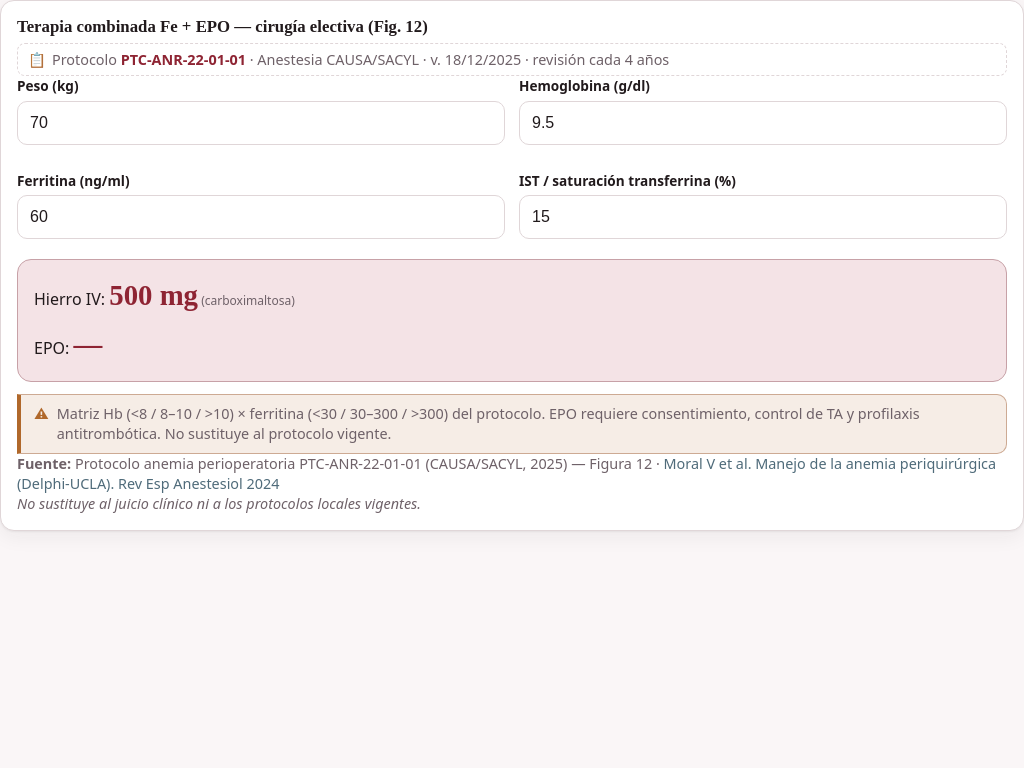
Test: Pantallas de ferropenia — regresión Fase 2a › Electiva: caso 70 / IST 24 → DERIVAR, sin pauta
Step 1. Replace the text in the field labelled "Hemoglobina (g/dl)" with "10.5" → (763,123), box [519,101,1007,145]
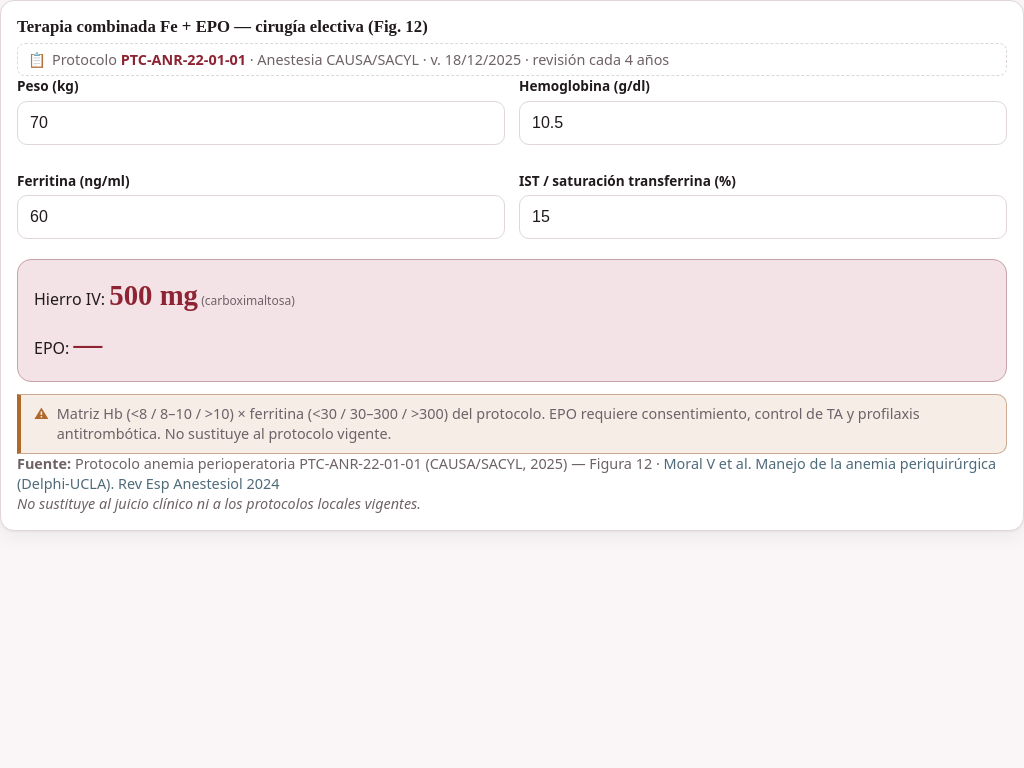
Step 2. Replace the text in the field labelled "Ferritina (ng/ml)" with "70" → (261,217), box [17,195,505,239]
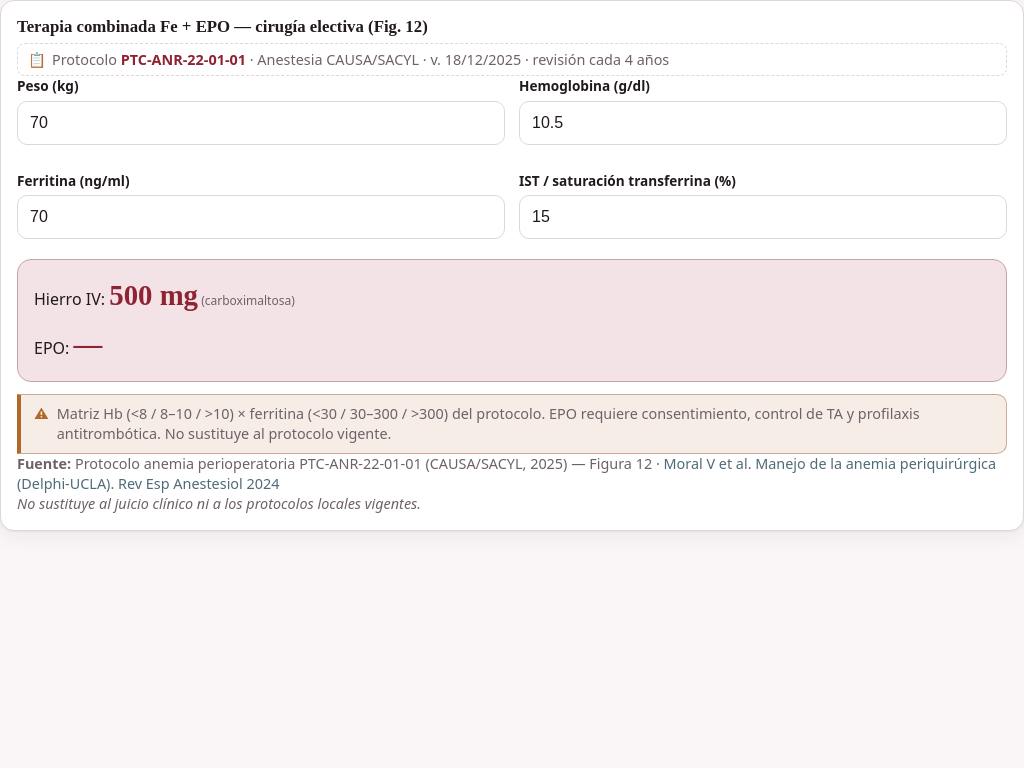
Step 3. Replace the text in the field labelled "IST / saturación transferrina (%)" with "24" → (763,217), box [519,195,1007,239]
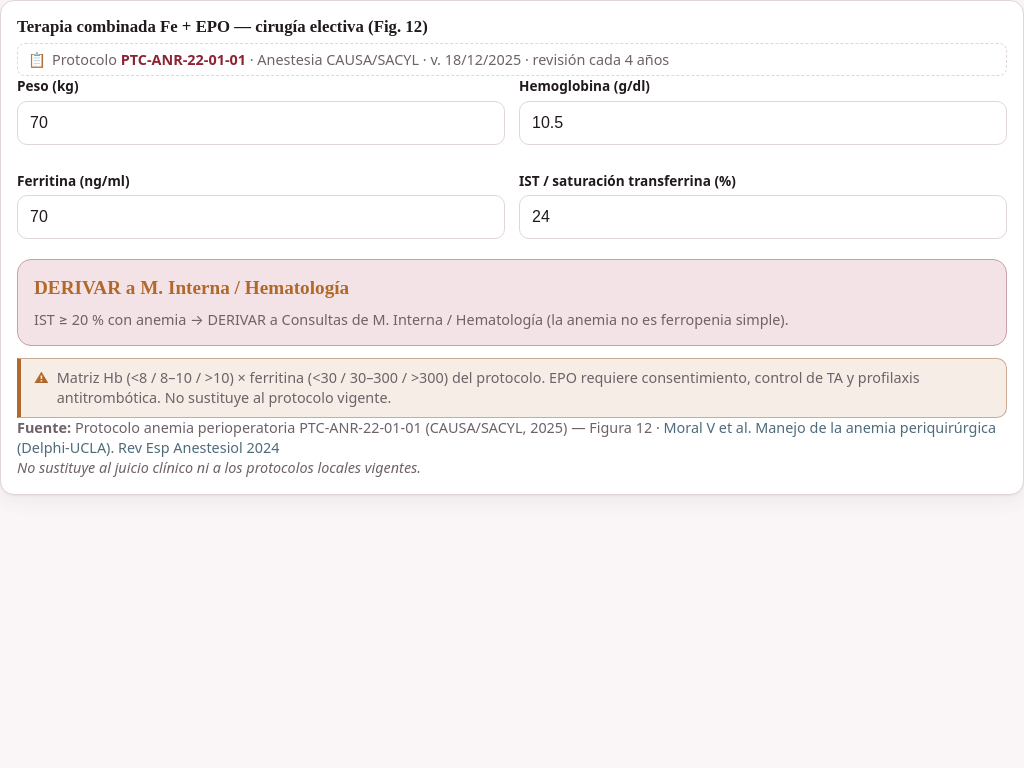
Check: the text "DERIVAR a M. Interna / Hematología" is shown, box [34,277,349,298]
Check: the text "Hierro IV:" is gone
